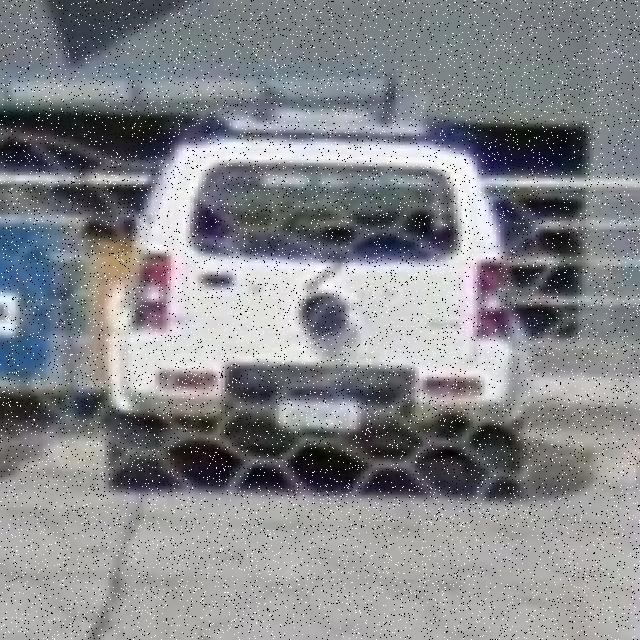cars: (113, 124, 535, 491)
